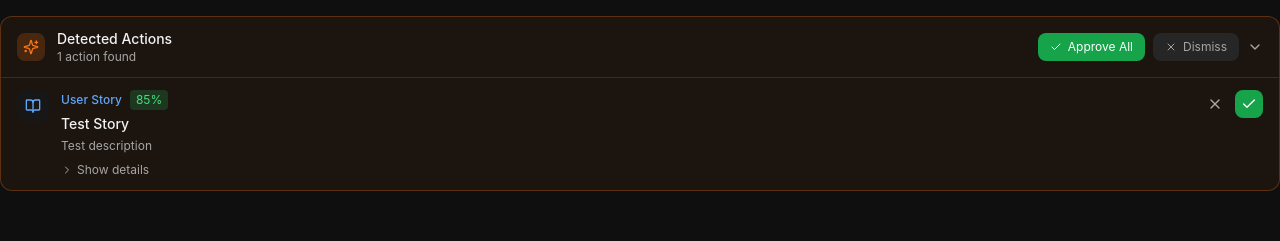
Test: ActionConfirmation › Approve Action › should show loading state during execution
Click the button titled "Create" at [1249, 104], box top-left (1235, 90), bottom-right (1263, 118)
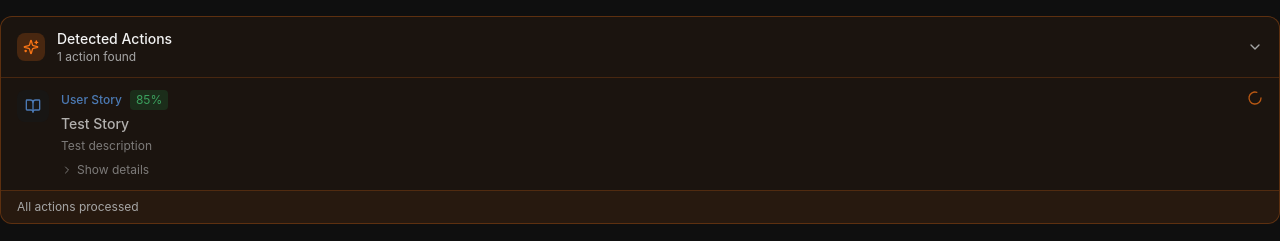
Expected: the icon with class "animate-spin" is shown, top-left (1247, 90), bottom-right (1263, 106)
